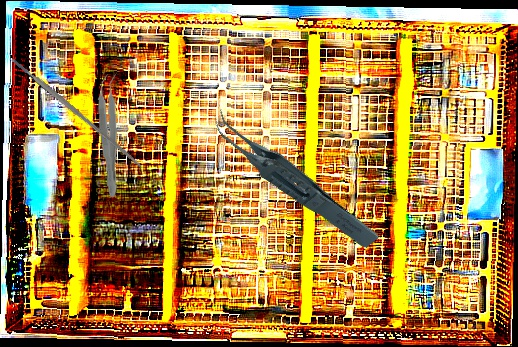Scalpel Handle: (10, 55, 144, 170)
Tissue Forceps: (208, 79, 381, 276), (95, 73, 126, 198)
